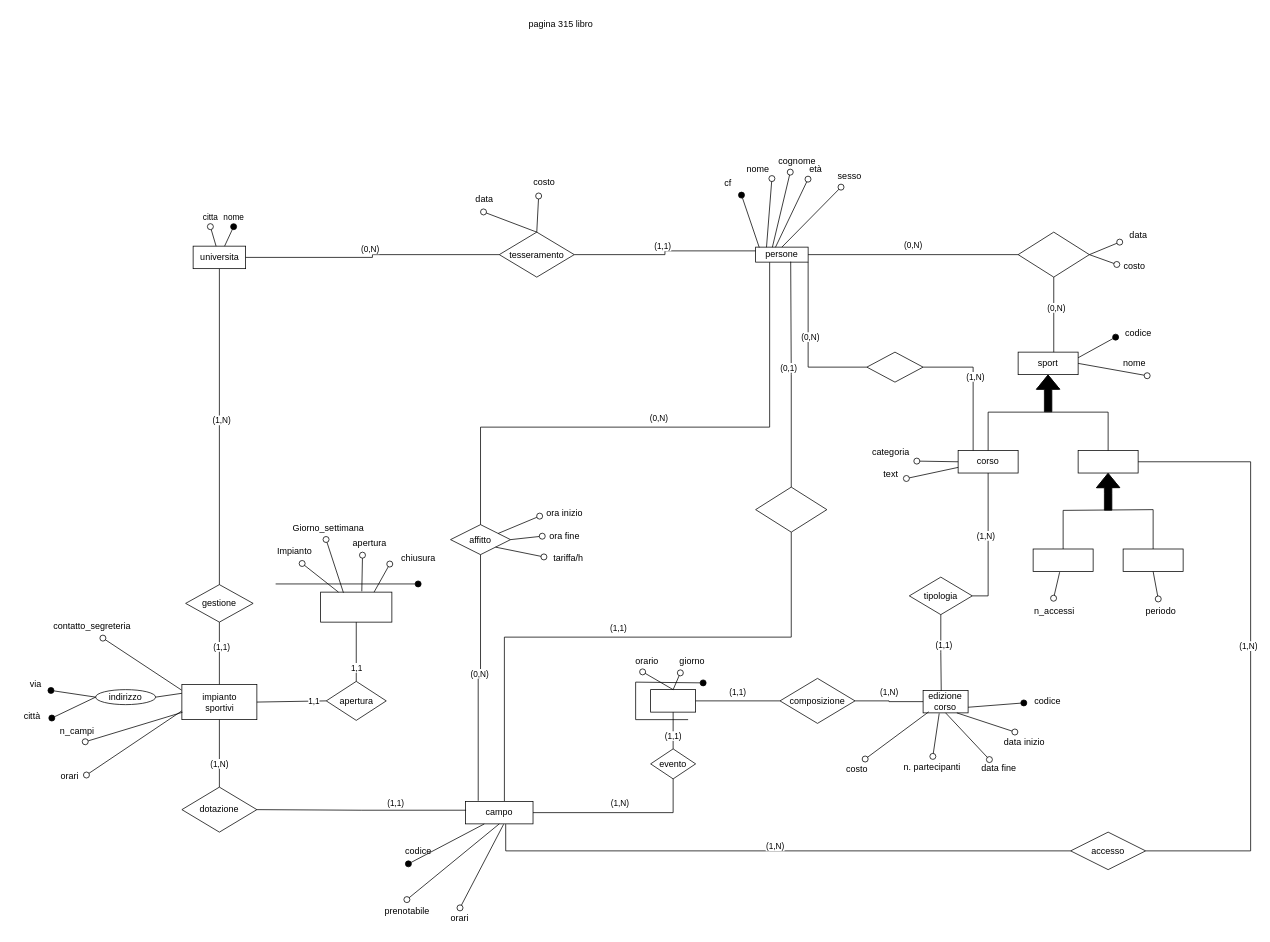
This 1270x942 diagram has some shape labels left out. Each missing label, with the centre of its shape:
"abbonamento" goes at point (1107, 461).
"accesi limitati" goes at point (1062, 560).
"docenza" goes at point (894, 366).
"iscrizione" goes at point (1053, 254).
"lezione" goes at point (673, 700).
"Orario_Impianto" goes at point (356, 606).
"periodico" goes at point (1152, 560).
"responsabile" goes at point (791, 509).
